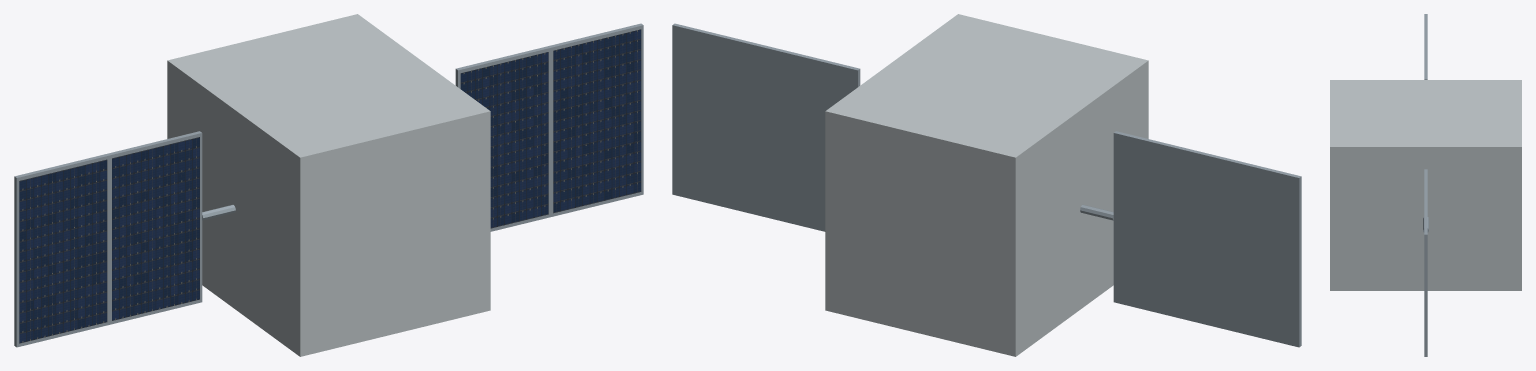
File: ref-hope-probe-45918.glb
3 views of the same model, side by side, from view 1: azimuth 30°, elevation 25°; view 2: azimuth 150°, elevation 25°; view 3: azimuth 270°, elevation 25° (orthographic). The views are drawn at different scales.
Visible parts, largest first — view 1: Spacecraft body, Photovoltaic laminates (×4), Array frame (×4); view 2: Spacecraft body, Array frame (×4); view 3: Spacecraft body, Array frame.
Part boxes in pixels (bbox=[...]): Spacecraft body: bbox=[167, 14, 490, 356]; Photovoltaic laminates (×4): bbox=[19, 29, 641, 343]; Array frame (×4): bbox=[14, 23, 643, 347]; Spacecraft body: bbox=[825, 14, 1148, 356]; Array frame (×4): bbox=[672, 23, 1301, 347]; Spacecraft body: bbox=[1330, 80, 1521, 290]; Array frame: bbox=[1424, 202, 1427, 356].
Size of the model in its own units: 7.9 by 2.4 by 2.9.
3 materials, 1 textured.
